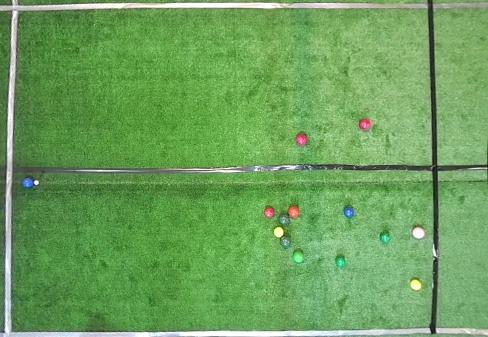blue: (21, 177, 34, 188), (343, 207, 354, 218)
green: (293, 251, 304, 263), (279, 214, 289, 225), (280, 237, 291, 247), (335, 256, 345, 267), (380, 232, 390, 243)
red: (412, 227, 425, 239), (359, 119, 371, 130), (295, 134, 307, 145), (288, 206, 299, 218), (264, 207, 274, 218)
vline: (428, 0, 487, 336), (0, 0, 20, 336)
white: (34, 180, 39, 185)
yellow: (410, 279, 422, 290), (274, 227, 284, 237)
